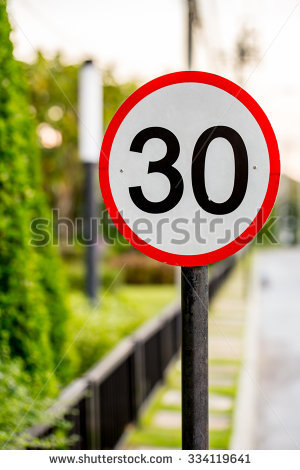Speed_limit_30km: (98, 72, 280, 268)
